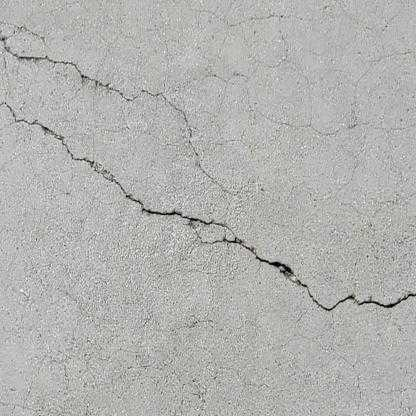crack: (3, 98, 412, 314), (2, 38, 223, 192)
